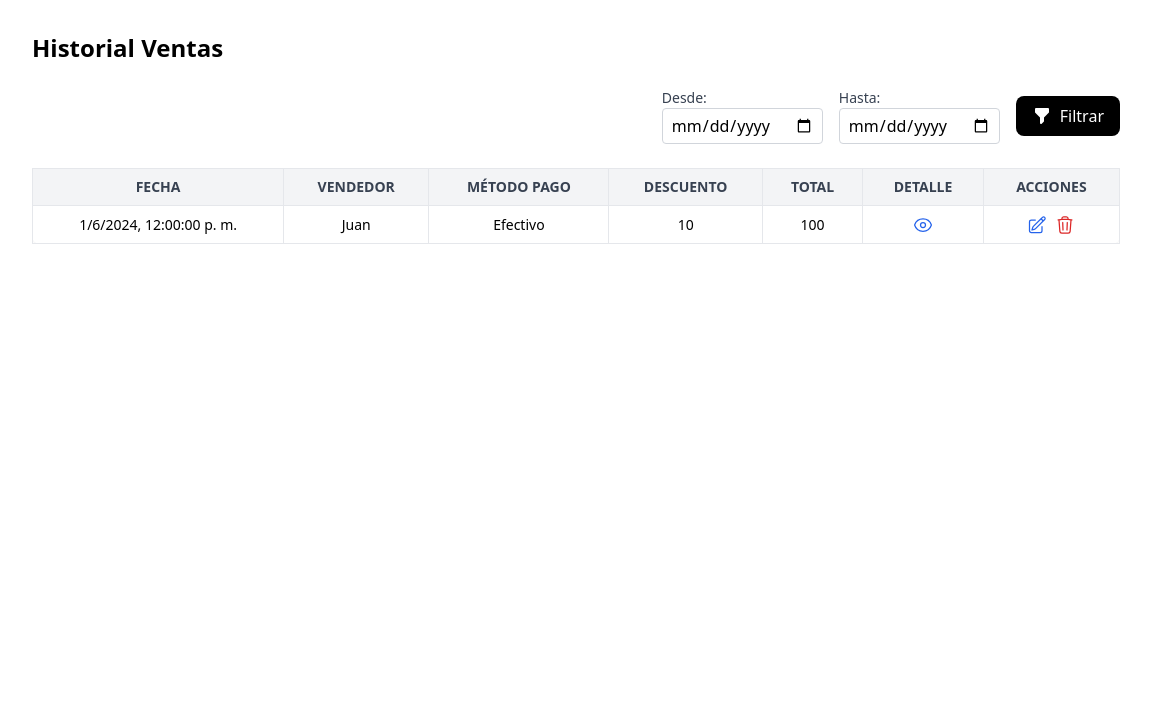
Test: HistorialVentas › abre el modal de edición
The width and height of the screenshot is (1152, 720).
Expected: the text "Juan" is shown, [284,206,429,244]
What coordinates should you click on to do the following:
click the button titled "Editar"
I would click on:
 (1037, 225)
Its box is [1027,214,1047,235].
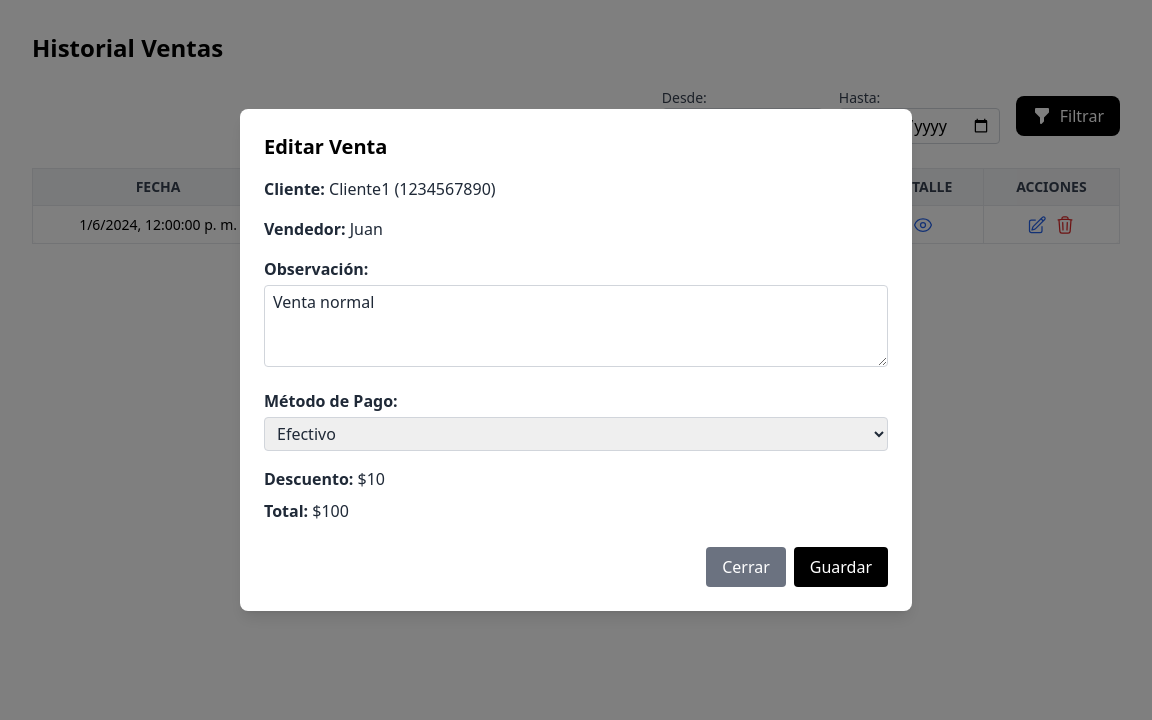
Now the heading "Editar Venta" is shown, box [264,133,387,160]
Now the text box showing "Venta normal" is shown, box [264,285,888,367]
